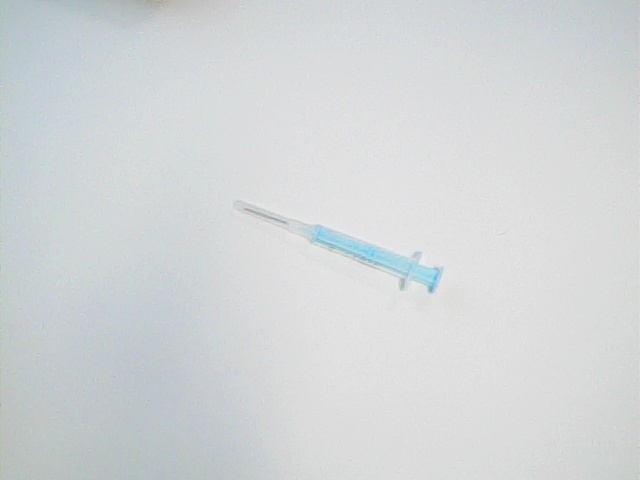syringe: (225, 193, 454, 301)
